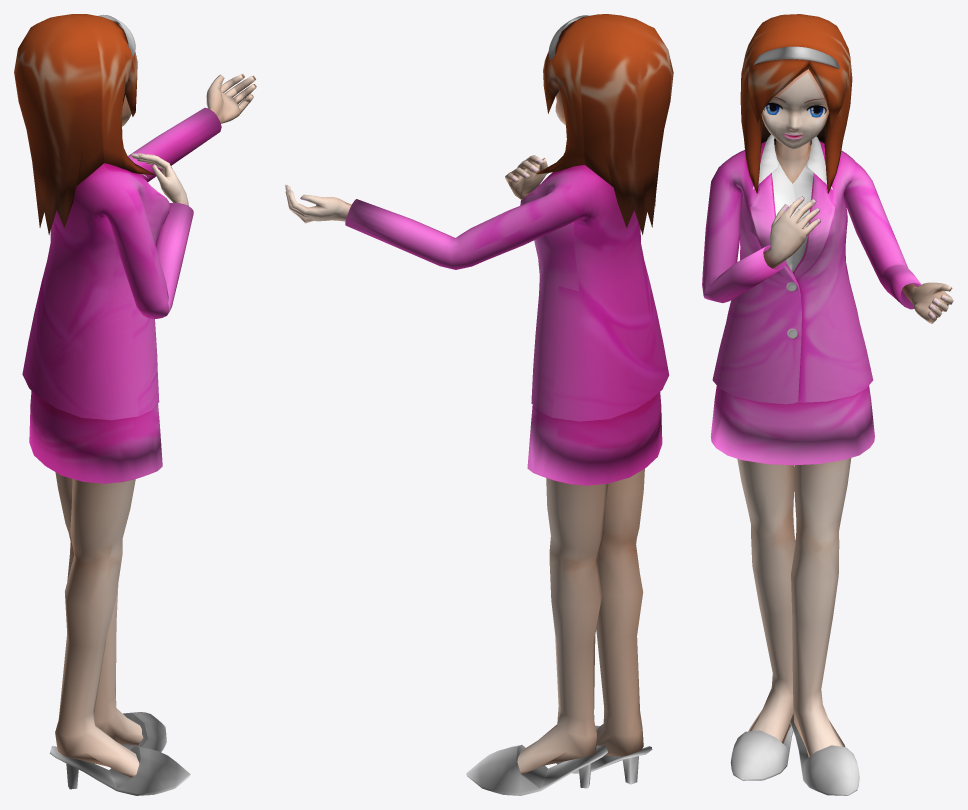
Rendered from AOI2.obj.
The picture shows the model from 3 angles, left to right: view 1: azimuth 30°, elevation 25°; view 2: azimuth 150°, elevation 25°; view 3: azimuth 270°, elevation 25°; orthographic projection. The views are drawn at different scales.
Visible parts, largest first — view 1: AOI_bodydesu01, AOI_hair, AOI_lkutu2, AOI_lkutu; view 2: AOI_bodydesu01, AOI_hair, AOI_lkutu, AOI_lkutu2; view 3: AOI_bodydesu01, AOI_hair, AOI_New_Face, AOI_lkutu, AOI_lkutu2, AOI_head_dress.
Part boxes in pixels (x1=…): AOI_bodydesu01: x1=22, y1=74, x2=256, y2=777; AOI_hair: x1=14, y1=14, x2=154, y2=234; AOI_lkutu2: x1=49, y1=746, x2=190, y2=795; AOI_lkutu: x1=94, y1=712, x2=166, y2=763; AOI_bodydesu01: x1=285, y1=155, x2=669, y2=774; AOI_hair: x1=536, y1=14, x2=673, y2=234; AOI_lkutu: x1=466, y1=745, x2=607, y2=795; AOI_lkutu2: x1=556, y1=725, x2=652, y2=784; AOI_bodydesu01: x1=702, y1=134, x2=953, y2=757; AOI_hair: x1=740, y1=14, x2=852, y2=193; AOI_New_Face: x1=761, y1=69, x2=828, y2=149; AOI_lkutu: x1=790, y1=714, x2=859, y2=795; AOI_lkutu2: x1=730, y1=726, x2=793, y2=780; AOI_head_dress: x1=753, y1=46, x2=839, y2=68.
Bounding box in the file's own units: 6.29 × 15.09 × 4.75.
